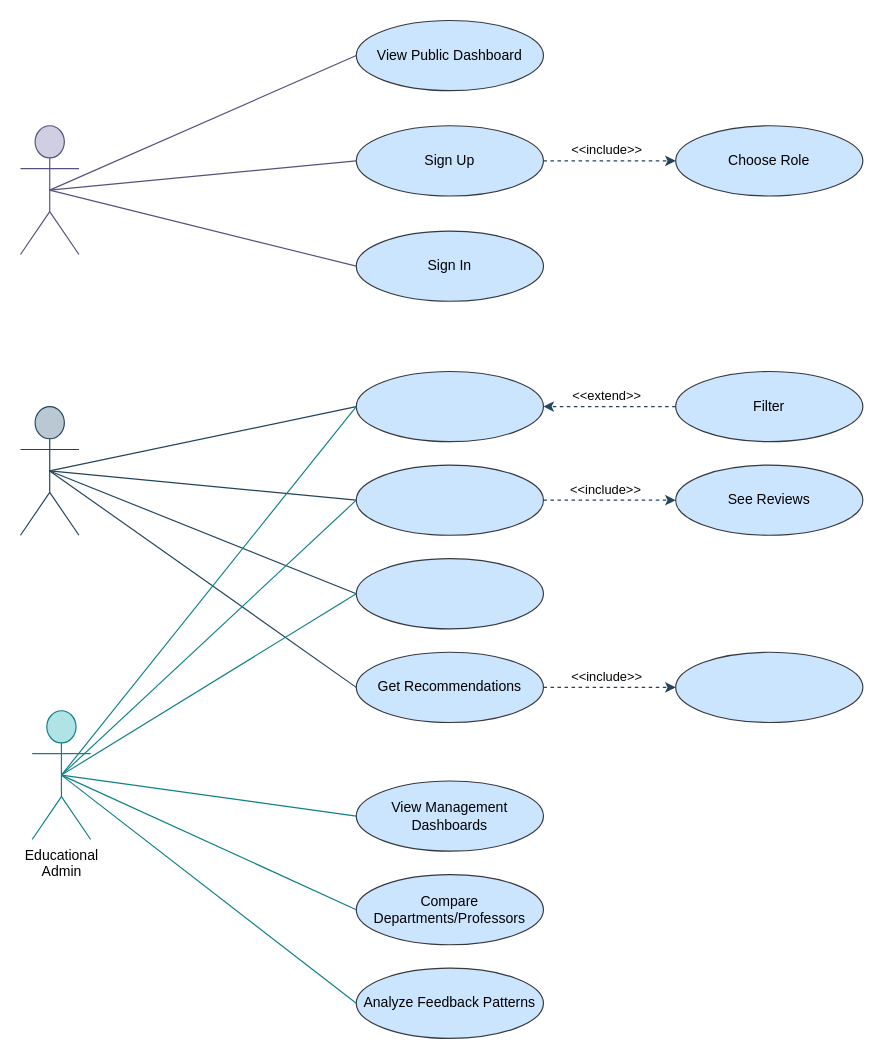
Some shapes in this 883 by 1059 pixel diagram are drawn without their labels. Each missing label, with the centre of its shape:
Choose Preferences: (769,686)
Compare Professors/Courses: (449,593)
Search: (449,406)
Student: (49,470)
View Professor Profile: (449,499)
Visitor: (49,189)
